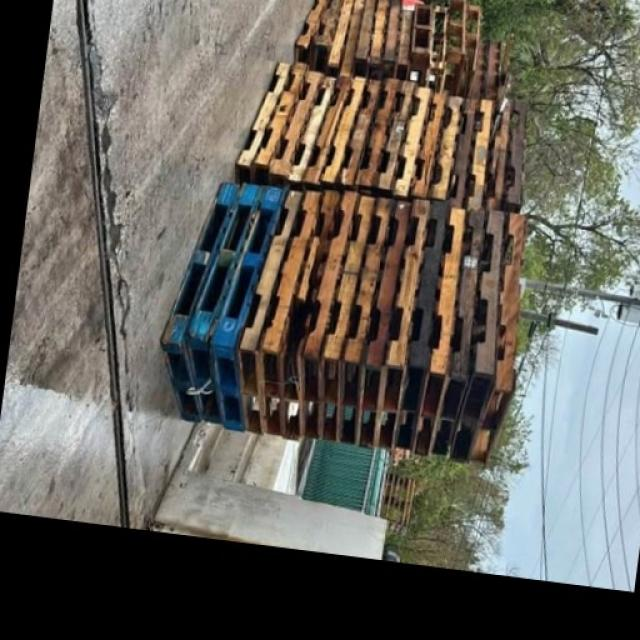non-igps: (150, 172, 241, 428), (180, 174, 270, 428), (206, 179, 294, 436), (233, 184, 309, 439), (422, 202, 493, 464), (462, 207, 533, 469), (275, 184, 345, 443), (387, 193, 455, 459), (444, 202, 511, 468), (296, 186, 365, 444), (331, 192, 400, 449), (314, 188, 380, 448), (261, 184, 328, 440), (408, 201, 473, 463), (352, 194, 417, 453), (371, 192, 435, 454), (263, 66, 329, 182), (232, 59, 298, 171), (248, 58, 313, 171), (297, 70, 358, 188), (316, 71, 375, 187), (284, 72, 341, 188), (333, 75, 388, 189), (387, 82, 439, 200), (352, 74, 405, 189), (373, 76, 423, 194), (404, 87, 454, 202), (425, 89, 468, 206), (444, 92, 484, 213), (461, 94, 498, 215), (482, 90, 518, 214), (498, 92, 532, 218), (447, 0, 485, 102), (302, 0, 348, 77), (434, 0, 470, 98), (402, 0, 437, 91), (333, 0, 368, 82), (324, 0, 359, 81), (351, 0, 384, 85), (290, 0, 332, 66), (423, 2, 453, 94), (362, 0, 394, 86), (376, 0, 405, 85), (388, 6, 419, 84), (462, 33, 491, 106), (478, 37, 506, 104)
